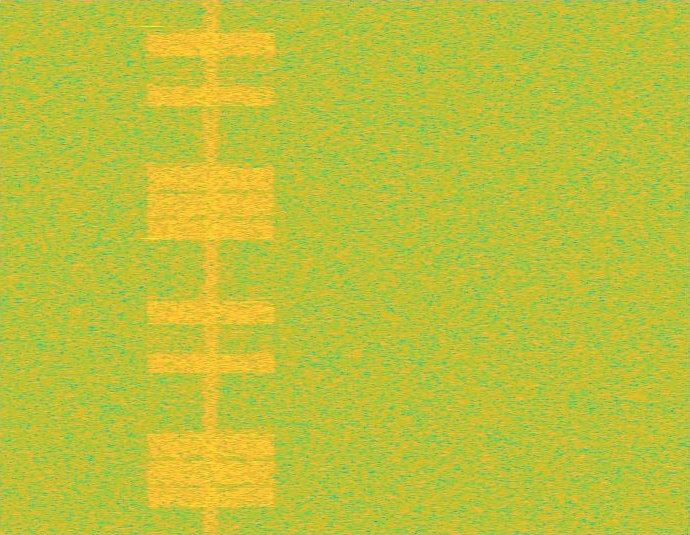DSSS: (202, 0, 220, 534)
LTE: (142, 0, 280, 534)
Radar: (145, 0, 159, 534)
